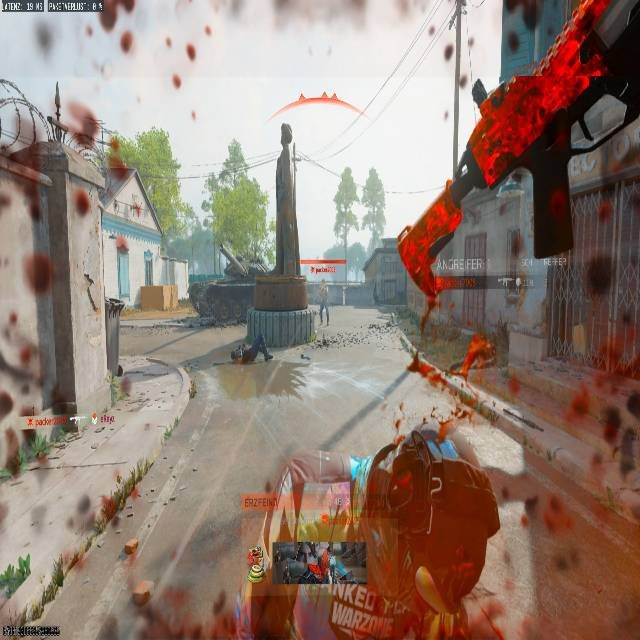player: (317, 278, 330, 324)
